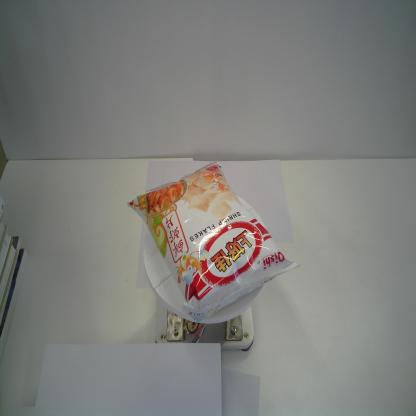Puffed Food: (125, 160, 303, 326)
